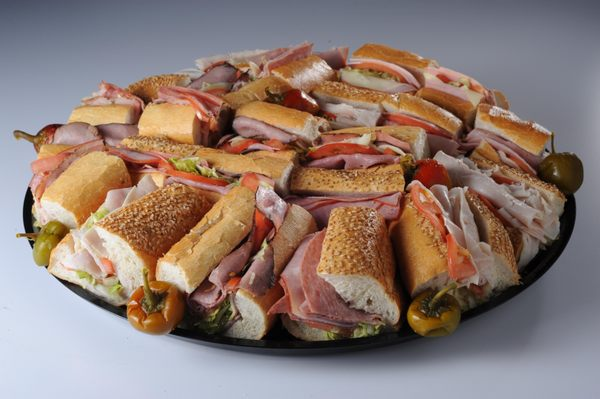soup: (46, 178, 237, 332), (182, 173, 317, 341), (393, 177, 522, 336), (279, 206, 404, 342), (25, 143, 133, 234)
